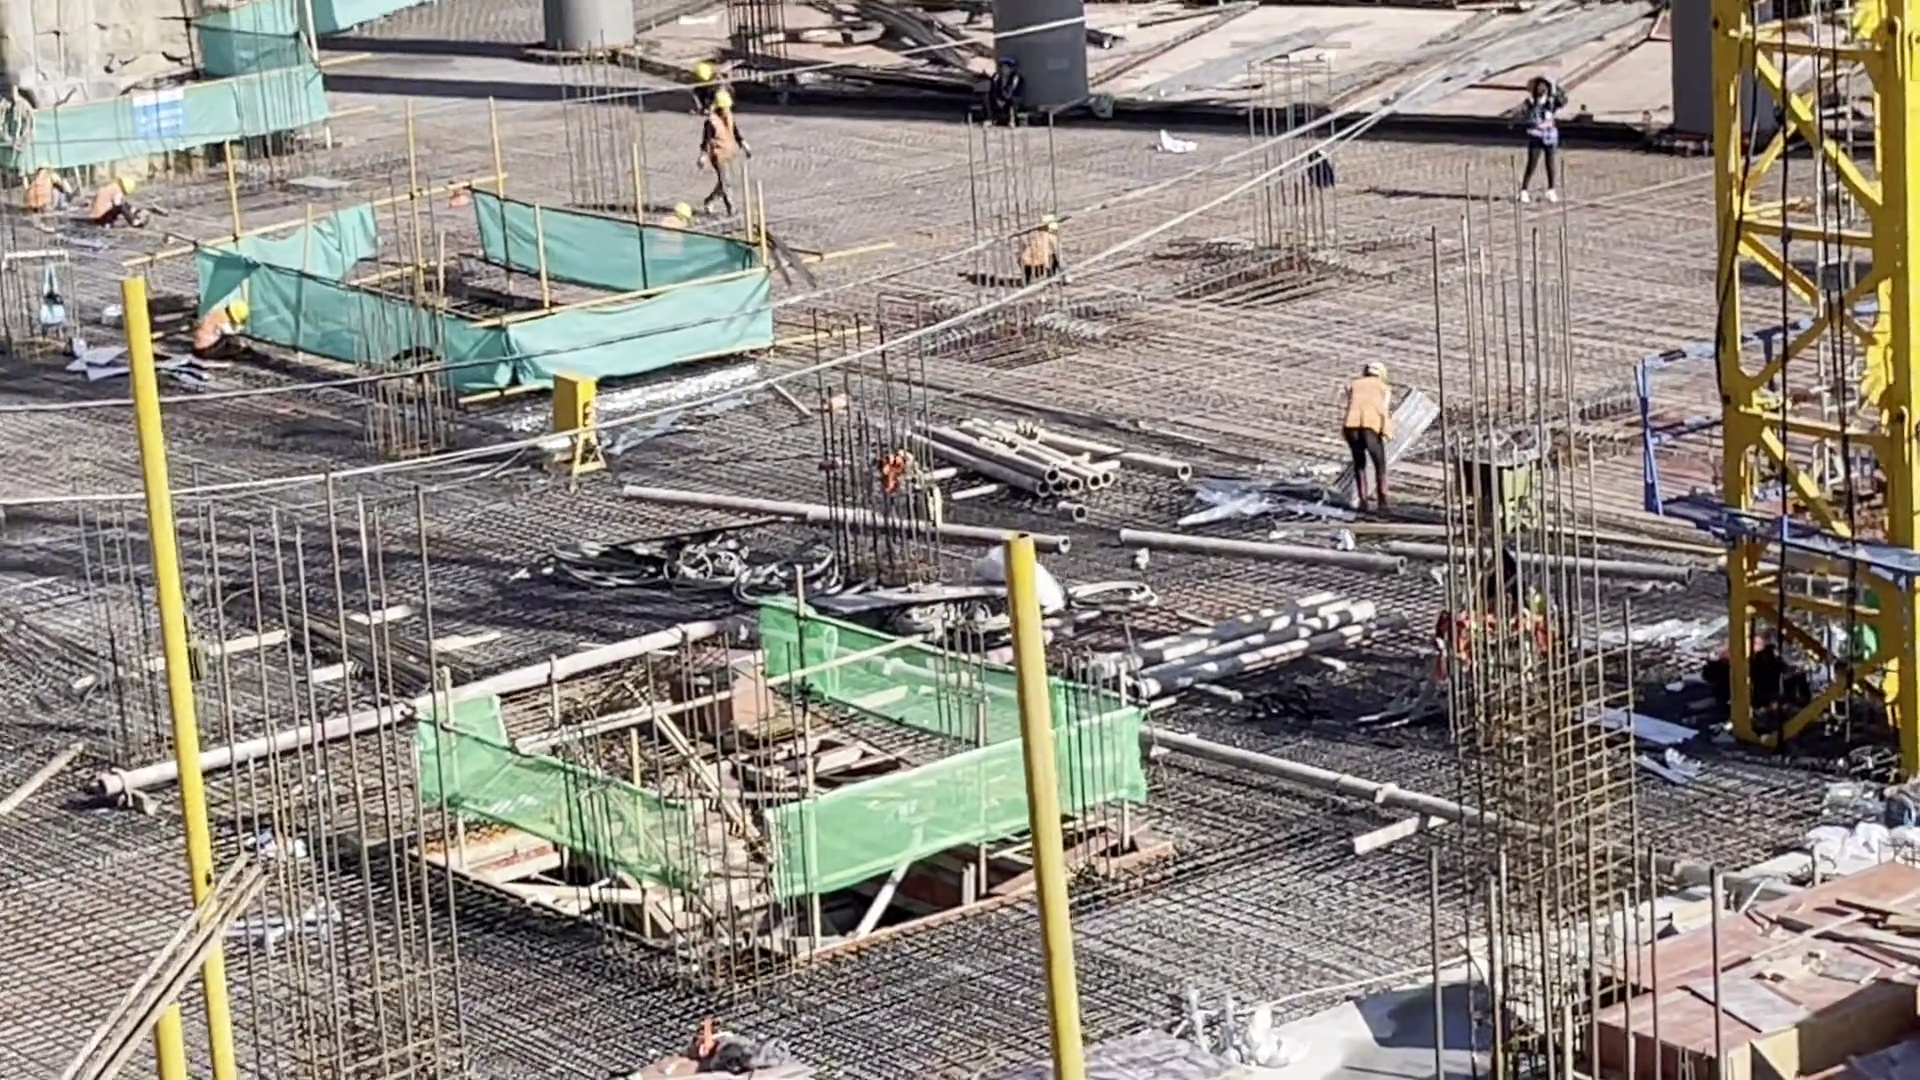helmet: (1362, 358, 1392, 380), (231, 299, 251, 323), (692, 62, 712, 79), (707, 93, 733, 106), (115, 178, 139, 191), (1043, 213, 1059, 229), (34, 161, 51, 173), (674, 203, 688, 216)
person: (1512, 79, 1574, 206), (693, 90, 751, 223), (1348, 358, 1395, 512), (195, 298, 245, 360), (96, 174, 151, 230), (1022, 216, 1071, 276), (985, 63, 1030, 120), (659, 201, 691, 267), (689, 60, 729, 109), (32, 169, 74, 213)
vest: (1348, 378, 1389, 435), (707, 111, 738, 166), (197, 306, 230, 348), (1527, 98, 1558, 143), (1025, 232, 1055, 270), (96, 185, 119, 221), (33, 176, 54, 207)
